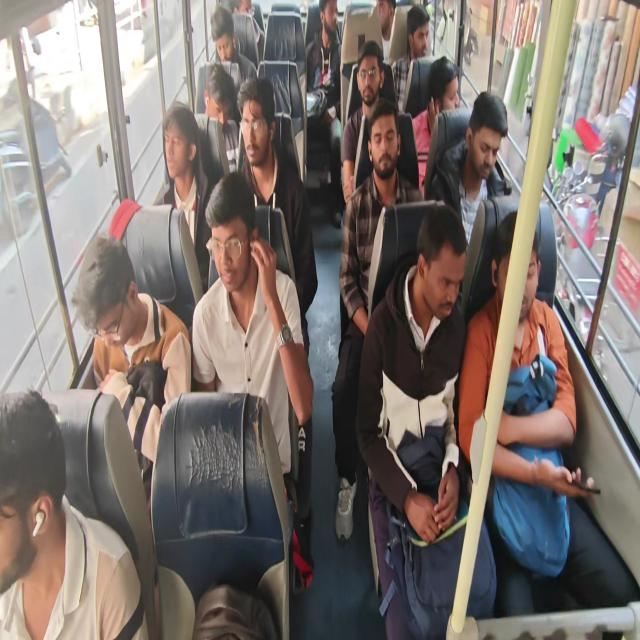person: (0, 444, 86, 594), (468, 83, 527, 181), (205, 202, 259, 306), (86, 244, 136, 344), (502, 227, 548, 334), (420, 234, 460, 305), (370, 114, 408, 178), (240, 91, 268, 172), (162, 120, 190, 178), (354, 56, 386, 105), (204, 70, 230, 128), (405, 12, 432, 58), (209, 18, 236, 62), (315, 0, 341, 43), (432, 69, 456, 113), (228, 2, 255, 26), (378, 5, 395, 40)
